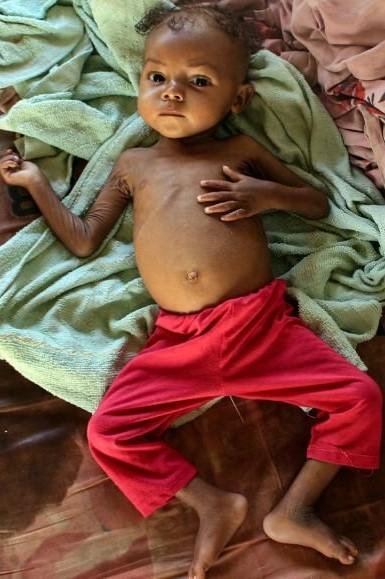Stunting: (130, 6, 304, 181)
